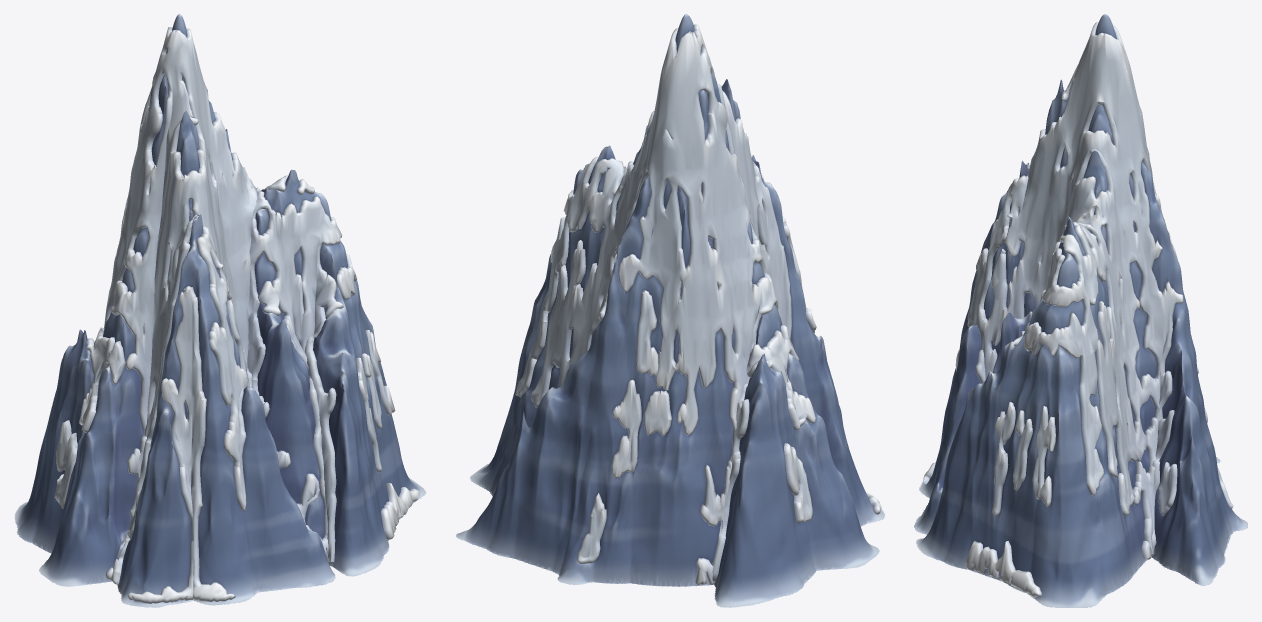
The model's file is FP_B01_SnowMountain.fbx.
The picture shows the model from 3 angles, left to right: view 1: azimuth 30°, elevation 25°; view 2: azimuth 150°, elevation 25°; view 3: azimuth 270°, elevation 25°; orthographic projection. The views are drawn at different scales.
Visible parts, largest first — view 1: Rock_LOD0, SnowCap_LOD0; view 2: Rock_LOD0, SnowCap_LOD0; view 3: Rock_LOD0, SnowCap_LOD0.
Boxes of the visible parts, x1,y1,x2,y2 form: Rock_LOD0: (14,14,426,607); SnowCap_LOD0: (54,27,419,603); Rock_LOD0: (456,14,884,607); SnowCap_LOD0: (515,24,881,585); Rock_LOD0: (914,14,1247,607); SnowCap_LOD0: (923,22,1233,597).
Size of what is drawn, in the model's own units: 20 by 26 by 16.
